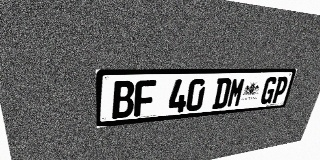0: (185, 79, 206, 112)
4: (168, 79, 189, 113)
B: (112, 80, 135, 119)
D: (212, 78, 232, 109)
F: (134, 80, 156, 117)
G: (259, 77, 278, 105)
M: (226, 78, 246, 108)
P: (271, 76, 290, 103)
